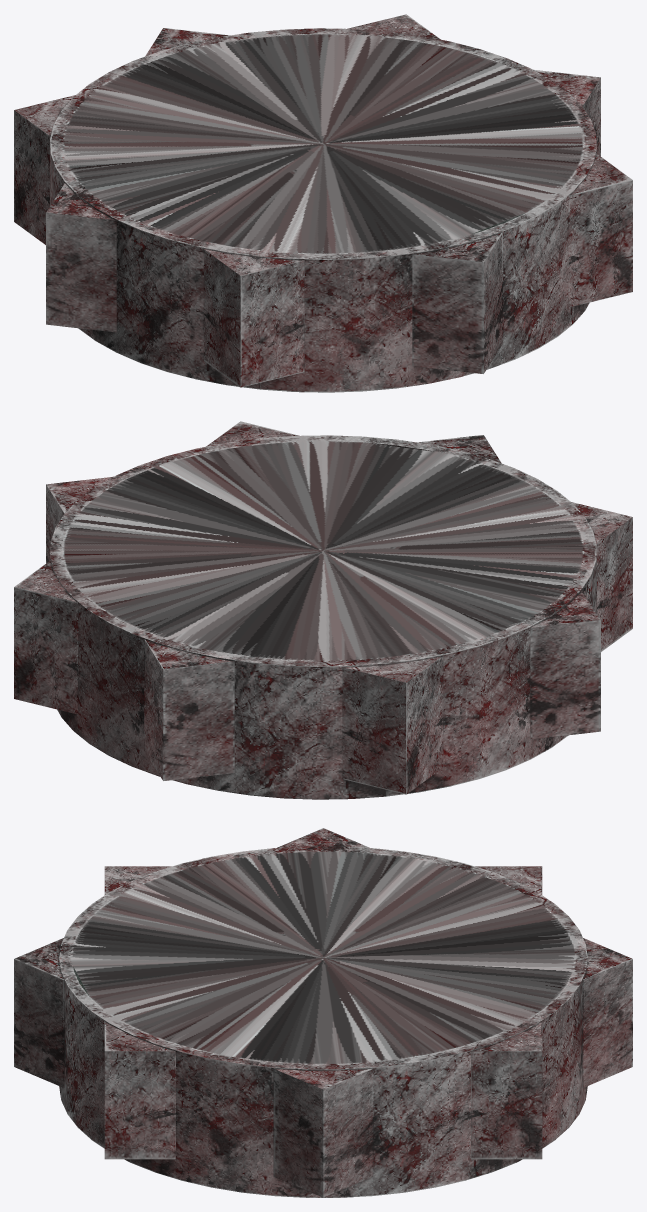
File: newpinball_rogo_base.fbx
3 views of the same model, one above another, from view 1: azimuth 30°, elevation 25°; view 2: azimuth 150°, elevation 25°; view 3: azimuth 270°, elevation 25° (orthographic). The views are drawn at different scales.
Parts seen in each view (by area): view 1: rogocircle3; view 2: rogocircle3; view 3: rogocircle3.
Part boxes in pixels (<box>): rogocircle3: <box>14,14,632,392</box>; rogocircle3: <box>14,421,632,799</box>; rogocircle3: <box>14,828,632,1197</box>.
Bounding box in the file's own units: 59.63 × 13.66 × 59.63.
